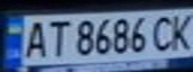6: (127, 14, 154, 54), (93, 16, 115, 56)
8: (72, 17, 96, 56), (112, 16, 133, 55)
A: (18, 18, 51, 60)
C: (148, 12, 178, 53)
K: (166, 10, 193, 51)
T: (42, 17, 72, 59)
